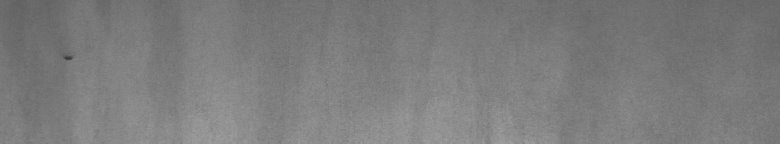fi: (63, 55, 75, 68)
